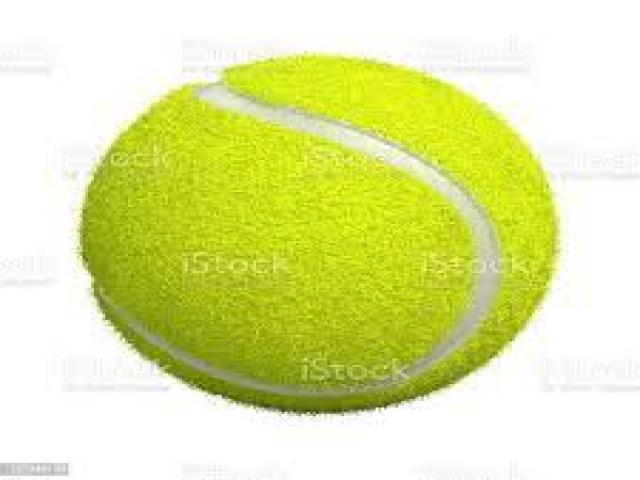tennis-ball: (80, 51, 560, 418)
